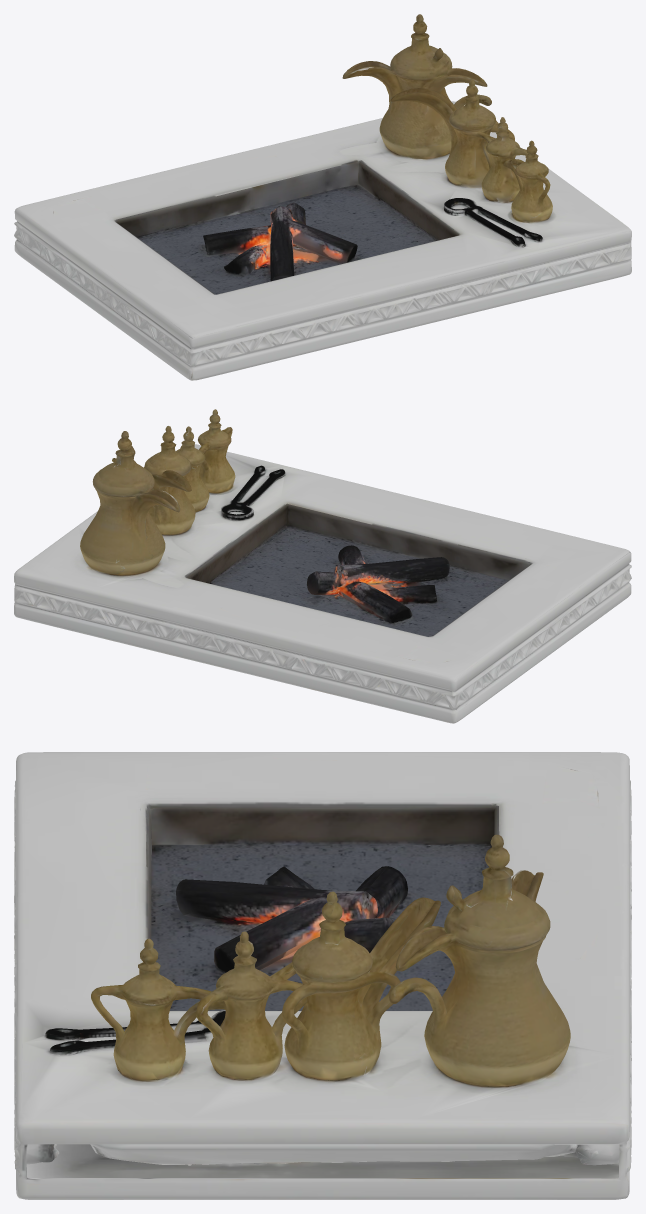
File: p-hearth.glb
3 renders of one model, top to bottom at view 1: azimuth 30°, elevation 25°; view 2: azimuth 150°, elevation 25°; view 3: azimuth 270°, elevation 25°, orthographic. The views are drawn at different scales.
Parts seen in each view (by area): view 1: node_0; view 2: node_0; view 3: node_0.
Boxes of the visible parts, x1=… form: node_0: x1=14, y1=14, x2=631, y2=380; node_0: x1=14, y1=409, x2=631, y2=723; node_0: x1=14, y1=752, x2=631, y2=1199.
Size of the model in its own units: 0.9498 by 0.3633 by 0.6657.
Materials: 1 (1 with a texture image).
